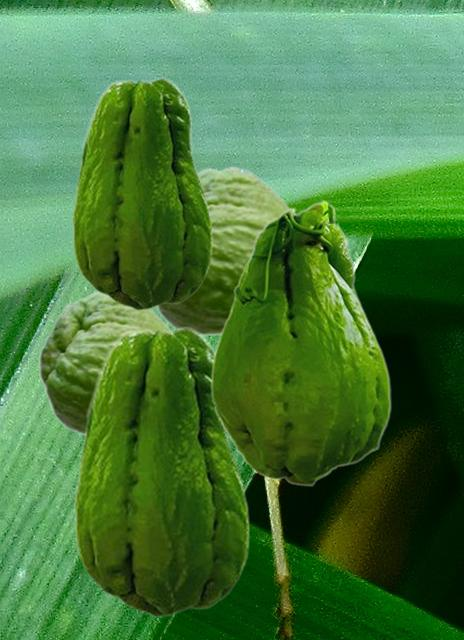sayote: (210, 200, 391, 486), (74, 325, 249, 617), (72, 76, 212, 310), (155, 165, 290, 336), (38, 290, 170, 435)
